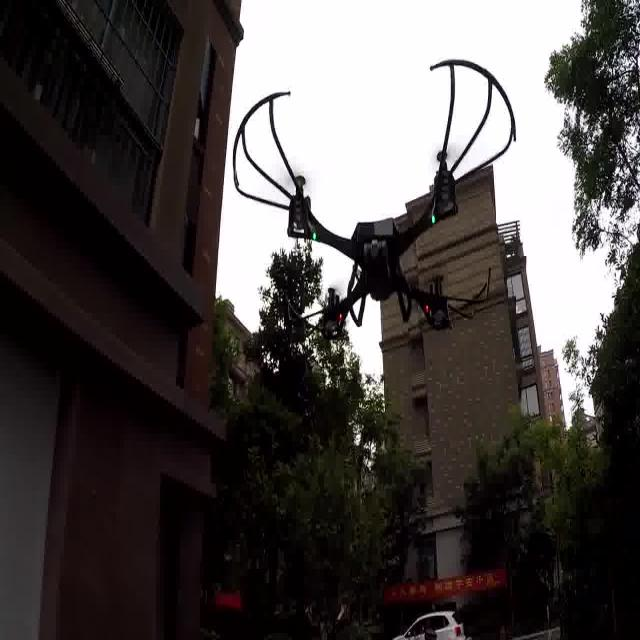drone: (223, 49, 519, 396)
